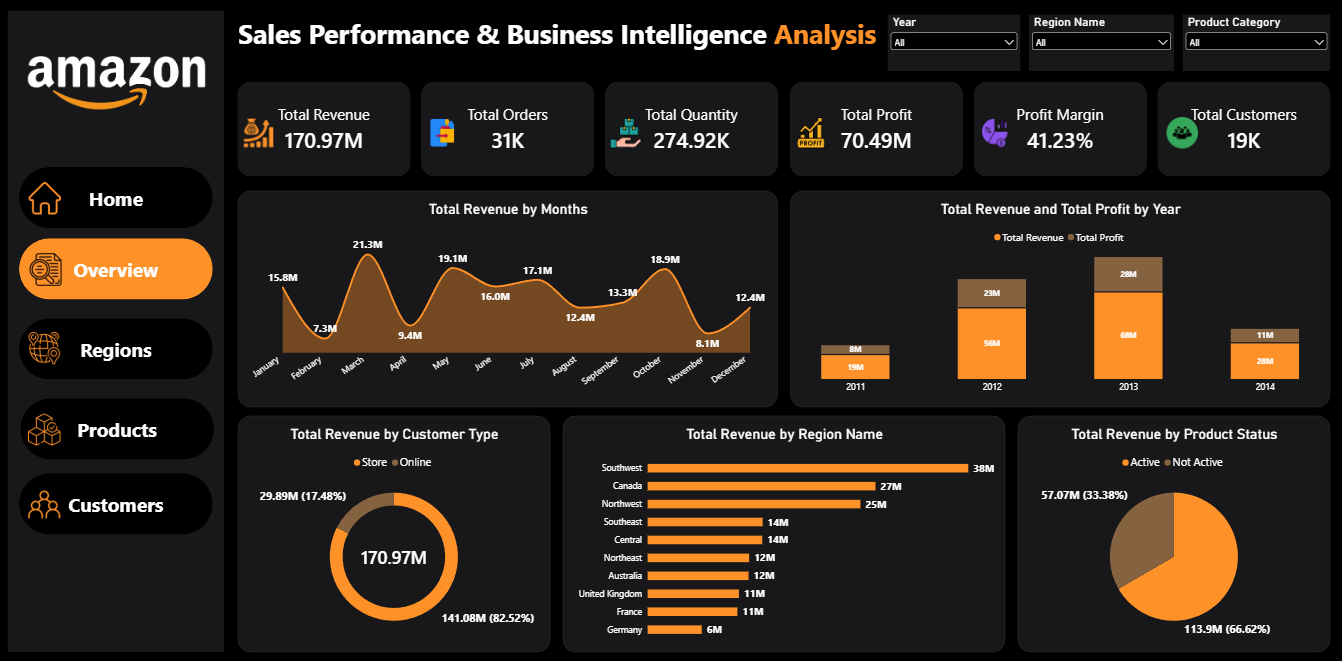

Layout of this report page (visuals, bound fields, positions):
{"tool":"powerbi","page":{"name":"Overview","canvas":[2150,1080],"ordinal":1},"visuals":[{"type":"textbox","box":[382,28,1022,86],"z":0},{"type":"cardVisual","fields":{"Data":["Sales 2011 to 2014.Total Revenue"]},"box":[382,136,276,150],"z":0,"group":"g1"},{"type":"cardVisual","fields":{"Data":["Sales 2011 to 2014.Total Orders"]},"box":[676,136,276,150],"z":1000,"group":"g1"},{"type":"lineChart","title":"Total Revenue by Months","fields":{"Category":["Sales 2011 to 2014.OrderDate.Variation.Date Hierarchy.Month"],"Y":["Sales 2011 to 2014.Total Revenue"]},"box":[382,310,864,346],"z":1000},{"type":"cardVisual","fields":{"Data":["Sales 2011 to 2014.Total Quantity"]},"box":[970,136,276,150],"z":2000,"group":"g1"},{"type":"columnChart","fields":{"Category":["Sales 2011 to 2014.OrderDate.Variation.Date Hierarchy.Year"],"Y":["Sales 2011 to 2014.Total Revenue","Sales 2011 to 2014.Total Profit"]},"box":[1266,310,864,346],"z":2000},{"type":"cardVisual","fields":{"Data":["Sales 2011 to 2014.Total Profit"]},"box":[1266,136,276,150],"z":3000,"group":"g1"},{"type":"barChart","fields":{"Category":["Regions.Region Name"],"Y":["Sales 2011 to 2014.Total Revenue"]},"box":[902,670,708,378],"z":3000},{"type":"cardVisual","fields":{"Data":["Sales 2011 to 2014.Profit Margin"]},"box":[1560,136,276,150],"z":4000,"group":"g1"},{"type":"pieChart","fields":{"Category":["Products.Product Status"],"Y":["Sales 2011 to 2014.Total Revenue"]},"box":[1630,670,500,378],"z":4000},{"type":"cardVisual","fields":{"Data":["Customers.Total Customers"]},"box":[1854,136,276,150],"z":5000,"group":"g1"},{"type":"donutChart","fields":{"Category":["Customers.Store Type"],"Y":["Sales 2011 to 2014.Total Revenue"]},"box":[382,670,500,378],"z":5000},{"type":"slicer","fields":{"Values":["Sales 2011 to 2014.OrderDate.Variation.Date Hierarchy.Year"]},"box":[1422,28,212,90],"z":6000},{"type":"slicer","fields":{"Values":["Regions.Region Name"]},"box":[1648,28,232,90],"z":7000},{"type":"slicer","fields":{"Values":["Products.Product Category"]},"box":[1894,28,236,90],"z":8000},{"type":"shape","box":[14,22,346,1026],"z":9000},{"type":"shape","box":[32,272,310,98],"z":10000},{"type":"image","box":[36,296,74,52],"z":11000},{"type":"shape","box":[32,386,310,98],"z":12000},{"type":"group","id":"g1","title":"Group 1","box":[382,136,1748,150],"z":13000},{"type":"image","box":[42,410,64,52],"z":14000},{"type":"shape","box":[32,514,310,98],"z":15000},{"type":"shape","box":[34,642,310,98],"z":16000},{"type":"shape","box":[32,762,310,98],"z":17000},{"type":"image","box":[40,536,64,52],"z":18000},{"type":"image","box":[40,786,64,52],"z":19000},{"type":"image","box":[40,666,64,52],"z":20000},{"type":"image","box":[46,80,284,114],"z":21000},{"type":"image","box":[382,192,66,50],"z":22000},{"type":"image","box":[676,192,66,50],"z":23000},{"type":"image","box":[970,192,66,50],"z":24000},{"type":"image","box":[1266,192,66,50],"z":25000},{"type":"image","box":[1560,192,66,50],"z":26000},{"type":"image","box":[1860,192,66,50],"z":27000}]}

Visuals, with their boxes in screenshot pixels (x1, y1, x2, y2), scaled from the page's 2150x1080 canvas onto the 1342x661 screenshot:
textbox: box=[238, 17, 876, 70]
cardVisual - Sales 2011 to 2014.Total Revenue: box=[238, 83, 411, 175]
cardVisual - Sales 2011 to 2014.Total Orders: box=[422, 83, 594, 175]
"Total Revenue by Months" lineChart: box=[238, 190, 778, 401]
cardVisual - Sales 2011 to 2014.Total Quantity: box=[605, 83, 778, 175]
columnChart - Sales 2011 to 2014.OrderDate.Variation.Date Hierarchy.Year x Sales 2011 to 2014.Total Revenue: box=[790, 190, 1330, 401]
cardVisual - Sales 2011 to 2014.Total Profit: box=[790, 83, 962, 175]
barChart - Regions.Region Name x Sales 2011 to 2014.Total Revenue: box=[563, 410, 1005, 641]
cardVisual - Sales 2011 to 2014.Profit Margin: box=[974, 83, 1146, 175]
pieChart - Products.Product Status x Sales 2011 to 2014.Total Revenue: box=[1017, 410, 1330, 641]
cardVisual - Customers.Total Customers: box=[1157, 83, 1330, 175]
donutChart - Customers.Store Type x Sales 2011 to 2014.Total Revenue: box=[238, 410, 551, 641]
slicer - Sales 2011 to 2014.OrderDate.Variation.Date Hierarchy.Year: box=[888, 17, 1020, 72]
slicer - Regions.Region Name: box=[1029, 17, 1173, 72]
slicer - Products.Product Category: box=[1182, 17, 1330, 72]
shape: box=[9, 13, 225, 641]
shape: box=[20, 166, 213, 226]
image: box=[22, 181, 69, 213]
shape: box=[20, 236, 213, 296]
"Group 1" group: box=[238, 83, 1330, 175]
image: box=[26, 251, 66, 283]
shape: box=[20, 315, 213, 375]
shape: box=[21, 393, 215, 453]
shape: box=[20, 466, 213, 526]
image: box=[25, 328, 65, 360]
image: box=[25, 481, 65, 513]
image: box=[25, 408, 65, 439]
image: box=[29, 49, 206, 119]
image: box=[238, 118, 280, 148]
image: box=[422, 118, 463, 148]
image: box=[605, 118, 647, 148]
image: box=[790, 118, 831, 148]
image: box=[974, 118, 1015, 148]
image: box=[1161, 118, 1202, 148]
